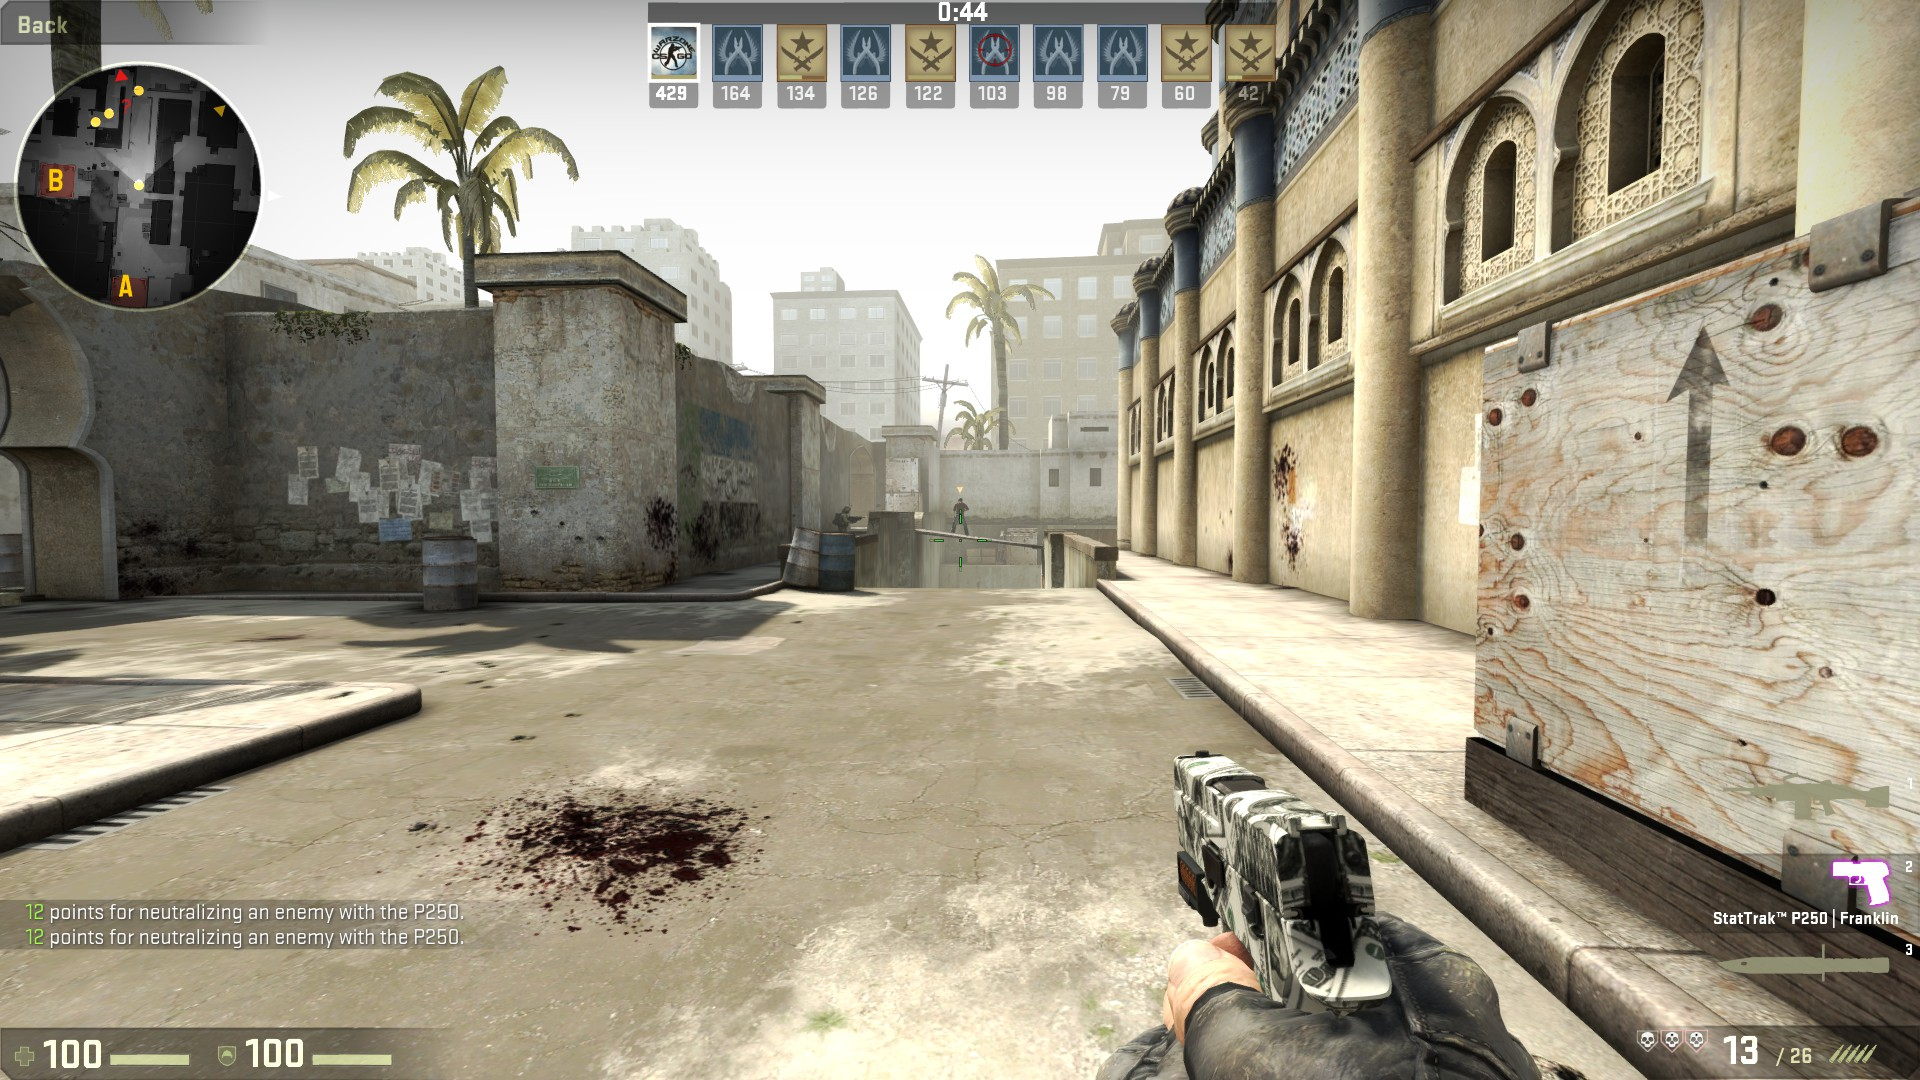c: (835, 504, 852, 534)
ch: (843, 505, 852, 514)
t: (951, 496, 969, 535)
th: (956, 497, 965, 504)
